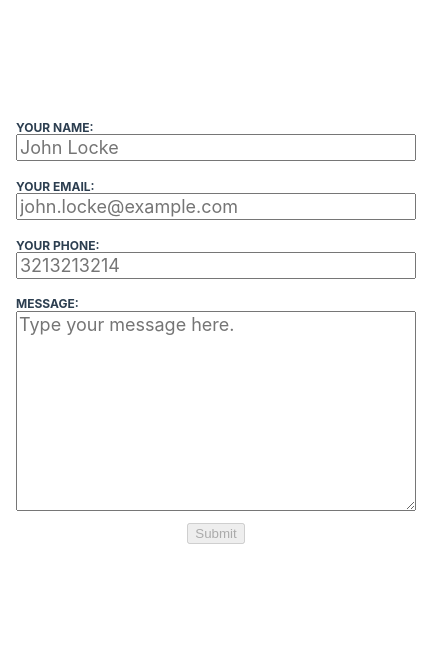
ContactForm component › interaction › enables the submit button when the form is valid
The width and height of the screenshot is (433, 669).
Type "John Doe" into the field labelled "Your Name:" at (216,148), box [16, 134, 416, 161]
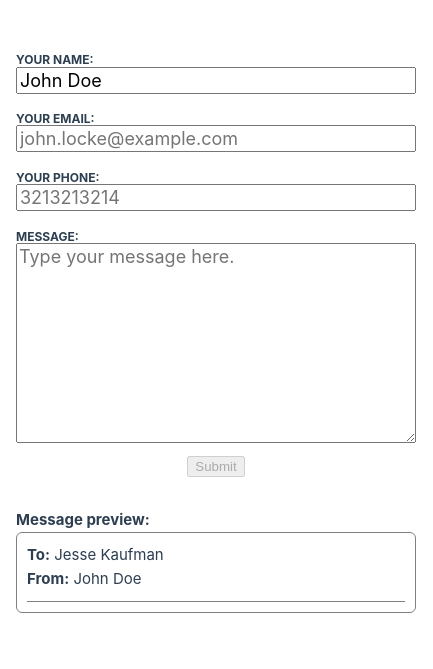
Type "john@example.com" into the field labelled "Your Email:" at (216,139), box [16, 125, 416, 152]
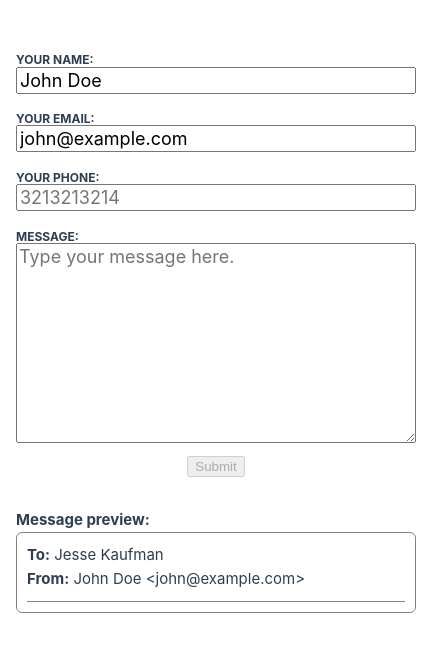
Type "1234567890" into the field labelled "Your Phone:" at (216,198), box [16, 184, 416, 211]
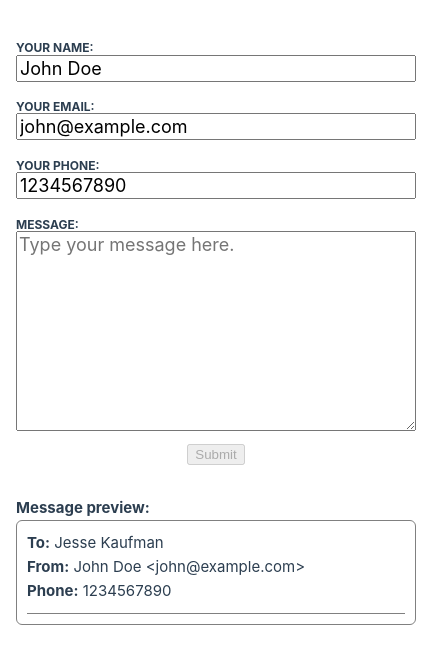
Type "This is a message" into the text box labelled "Message:" at (216,331), box [16, 231, 416, 431]
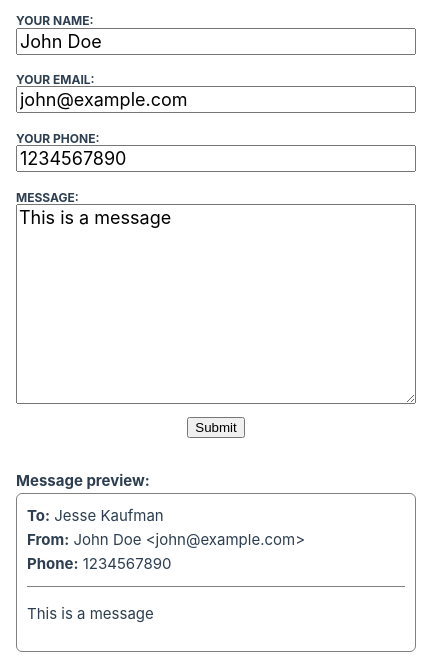
Check: the button "Submit" is enabled, box [187, 417, 245, 438]
